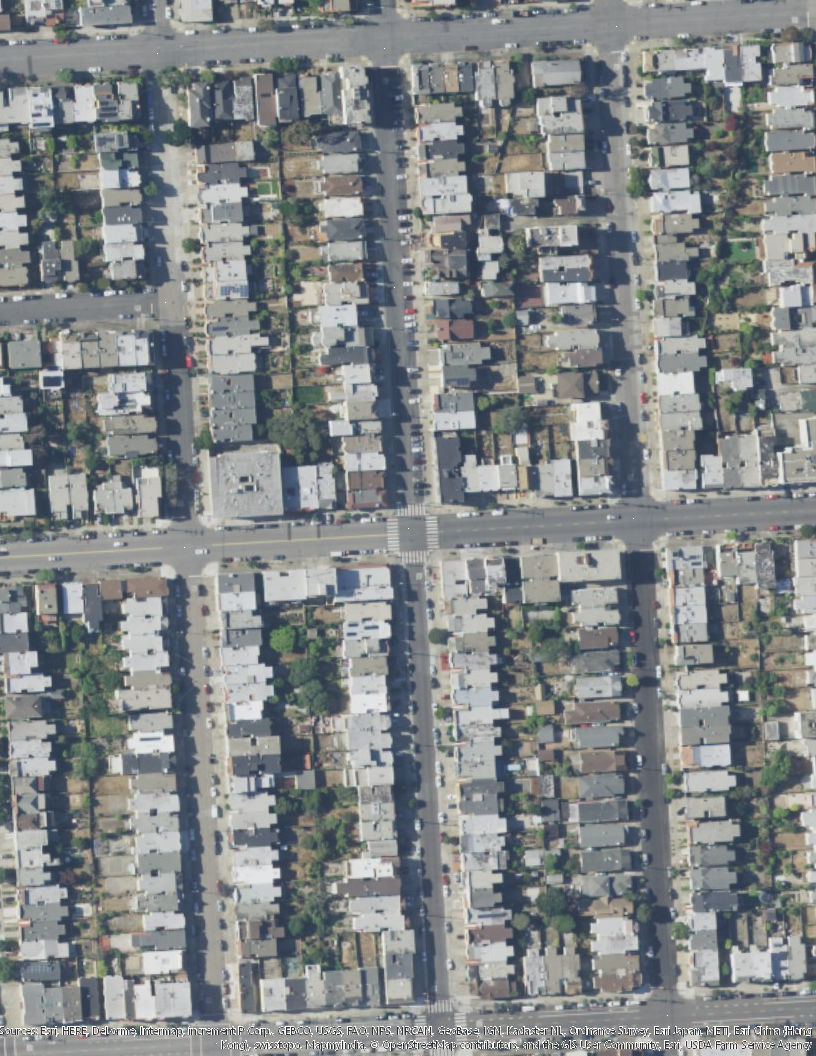zebracross: (426, 514, 439, 550), (386, 519, 399, 551), (427, 1001, 454, 1013), (397, 506, 427, 516), (403, 552, 427, 563), (414, 1014, 427, 1027), (455, 1012, 468, 1024)
